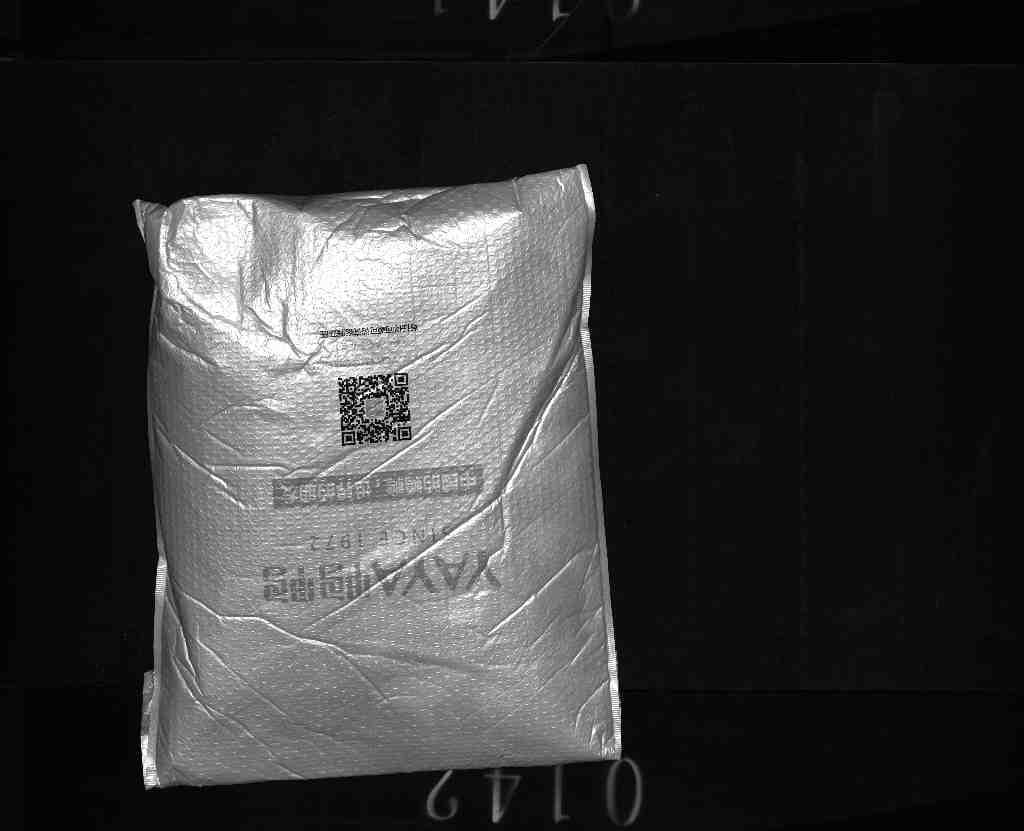box: (117, 163, 632, 793)
